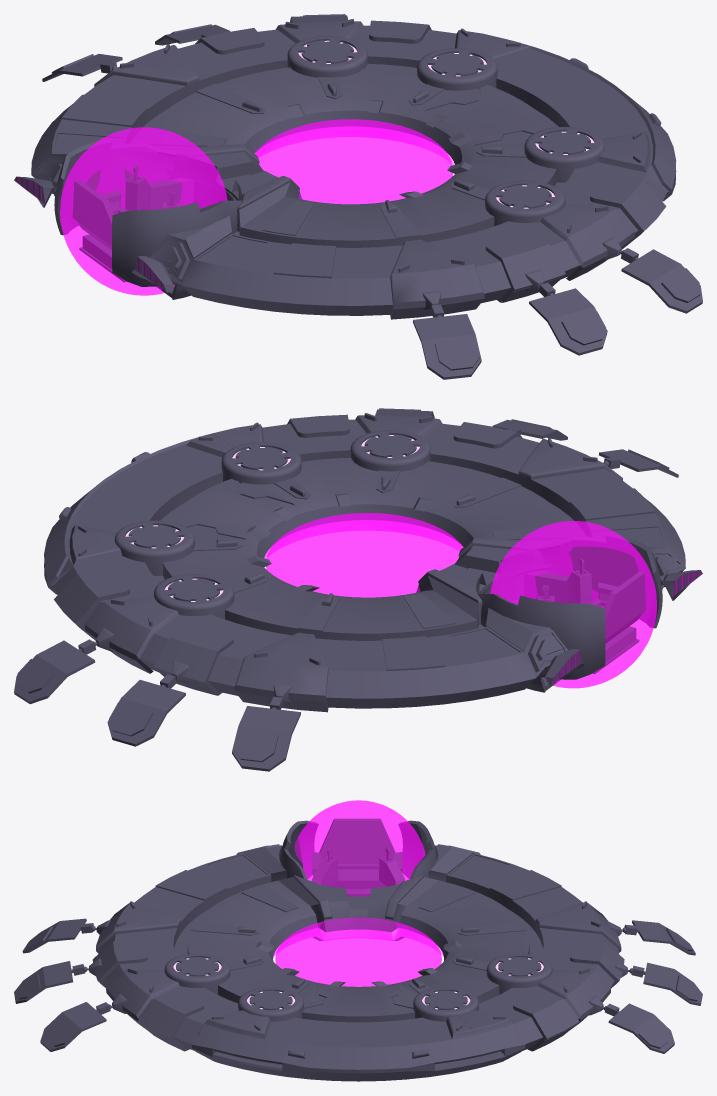
File: Fortnite UFO free download by Dawoods World.fbx
3 views of the same model, one above another, from view 1: azimuth 30°, elevation 25°; view 2: azimuth 150°, elevation 25°; view 3: azimuth 270°, elevation 25° (orthographic). The views are drawn at different scales.
Visible parts, largest first — view 1: Sphere.002, Sphere.001, Sphere.003, Cylinder.002, Cube; view 2: Sphere.002, Sphere.001, Sphere.003, Cylinder.002, Cube; view 3: Sphere.002, Sphere.001, Sphere.003, Cylinder.002.
Boxes of the visible parts, x1,y1,x2,y2 form: Sphere.002: (14, 14, 702, 379); Sphere.001: (60, 127, 227, 295); Sphere.003: (255, 119, 452, 204); Cylinder.002: (287, 36, 604, 226); Cube: (15, 177, 164, 290); Sphere.002: (14, 408, 702, 771); Sphere.001: (490, 521, 656, 688); Sphere.003: (266, 513, 463, 597); Cylinder.002: (114, 430, 430, 619); Cube: (553, 570, 701, 682); Sphere.002: (14, 818, 702, 1081); Sphere.001: (294, 800, 425, 896); Sphere.003: (275, 917, 441, 986); Cylinder.002: (164, 953, 552, 1021).
Bounding box in the file's own units: 752 × 195 × 979.
